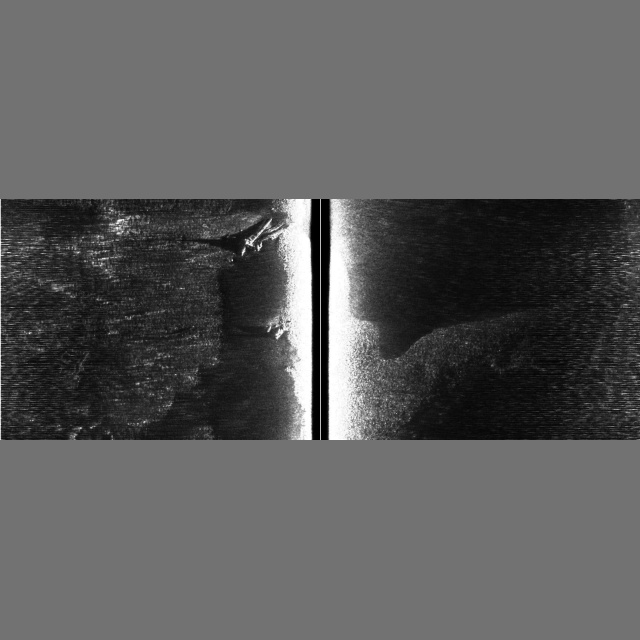Shipwreck: (227, 218, 290, 340)
